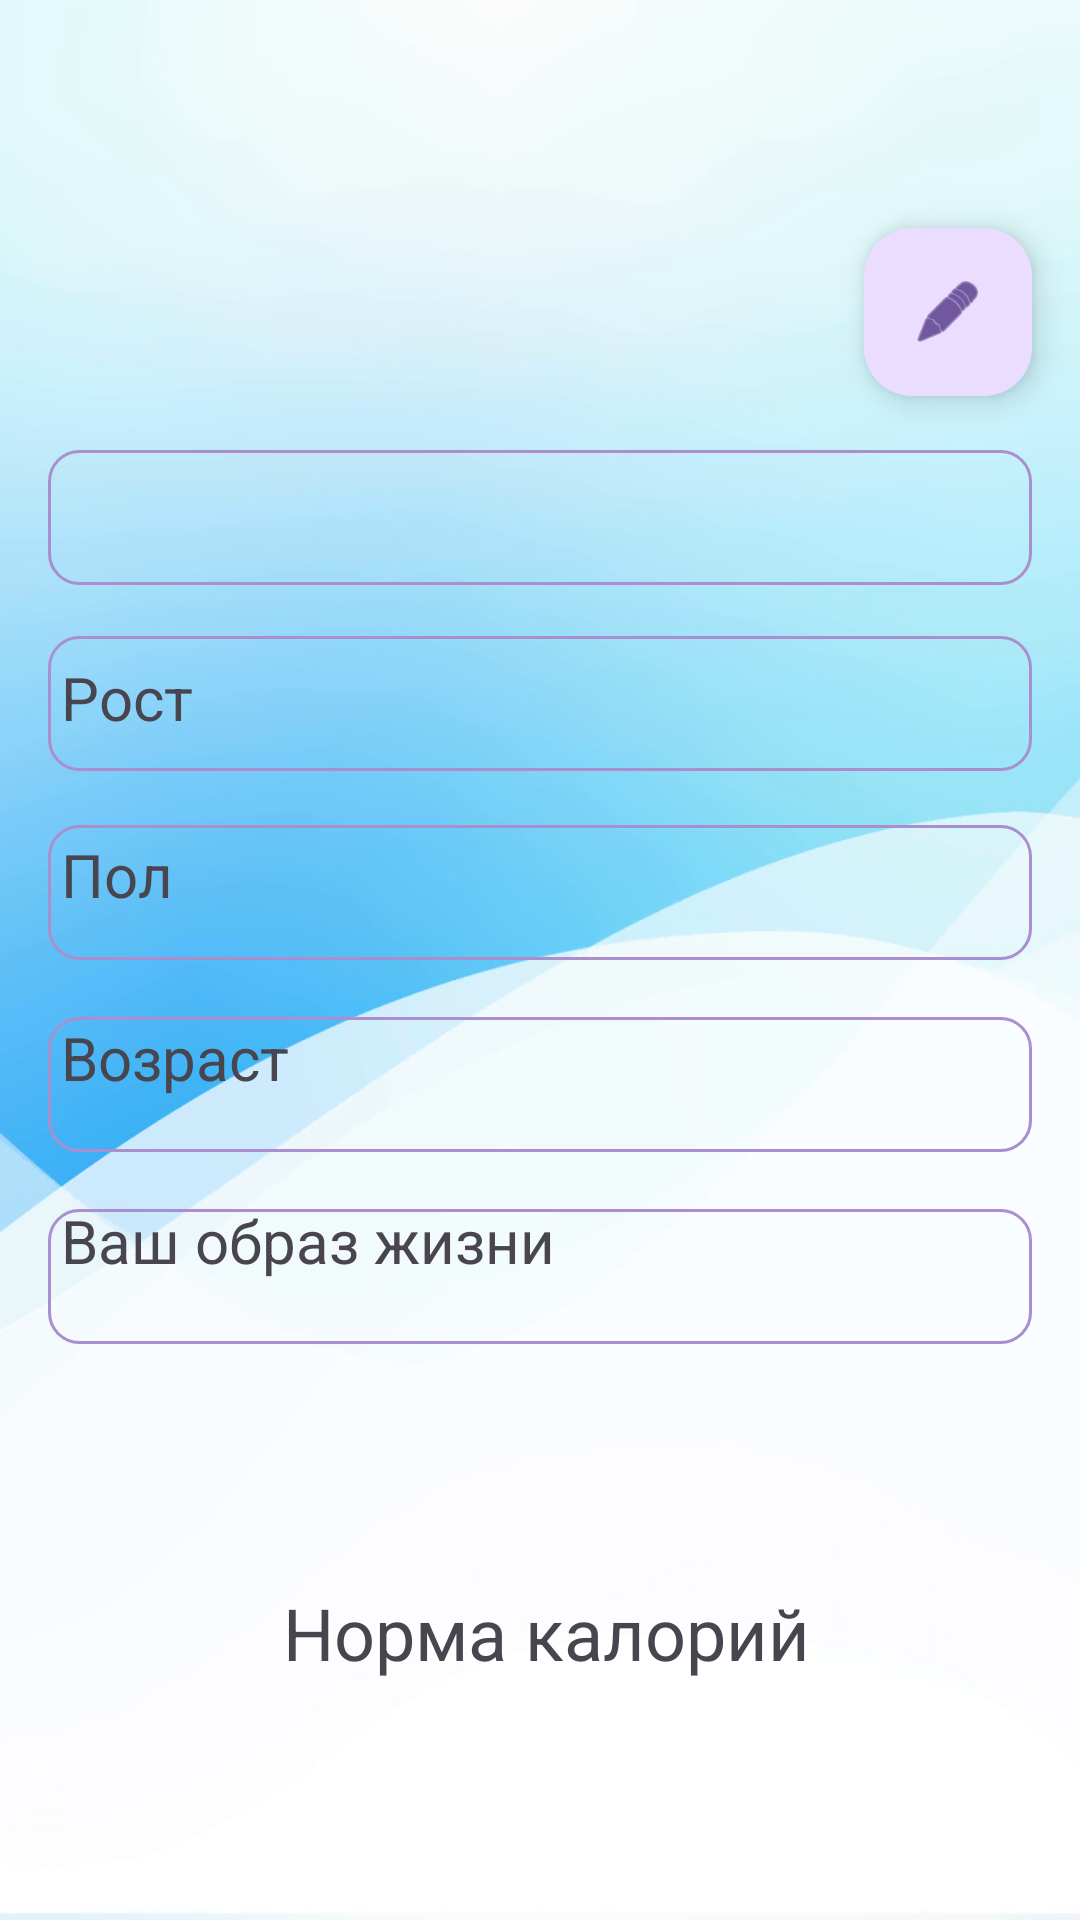

Named icons in this screenshot (1080 x 1920) and their centers, point (x, y):
edit: point (948, 312)
